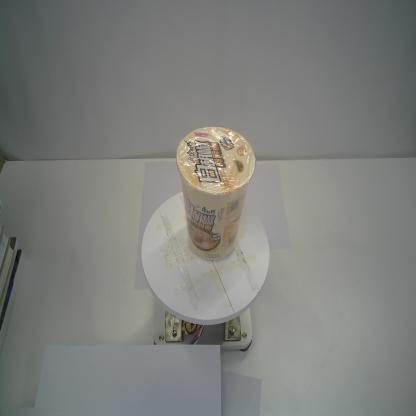Instant Noodles: (176, 124, 258, 264)
